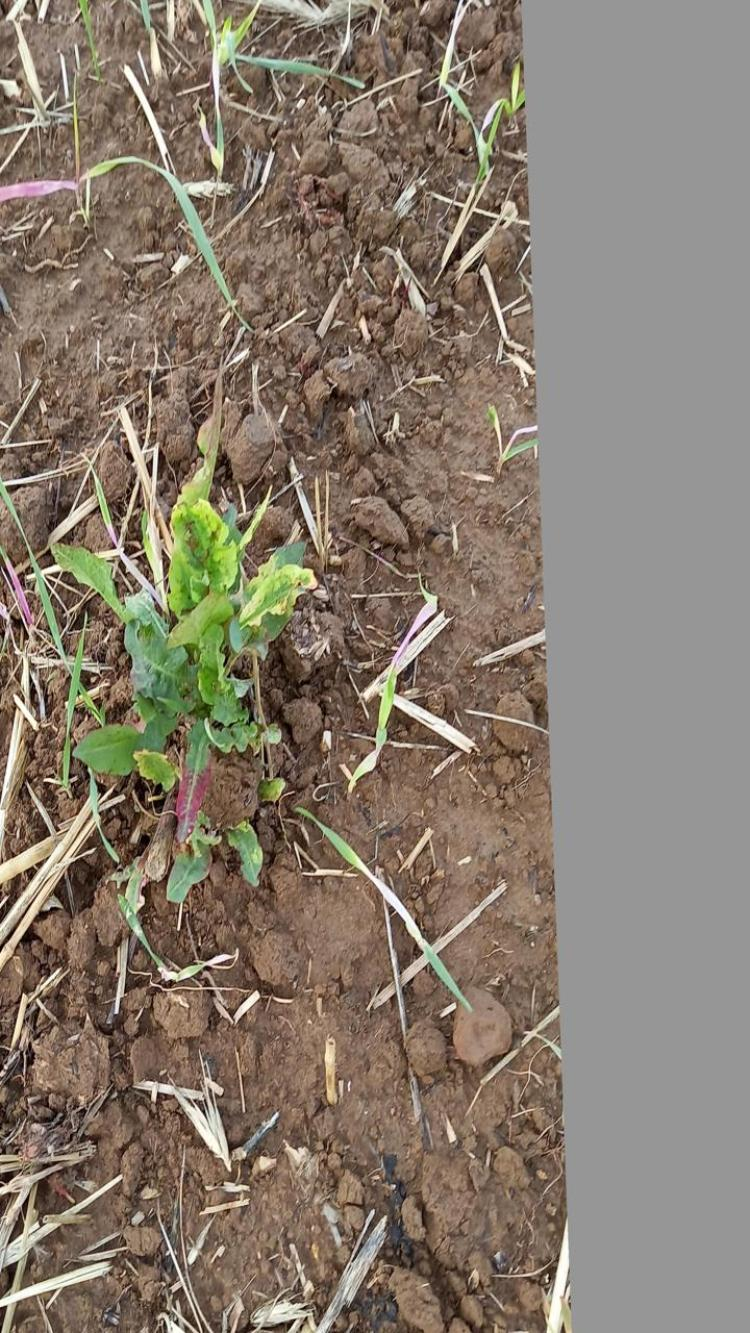zhavel: (50, 445, 321, 894)
